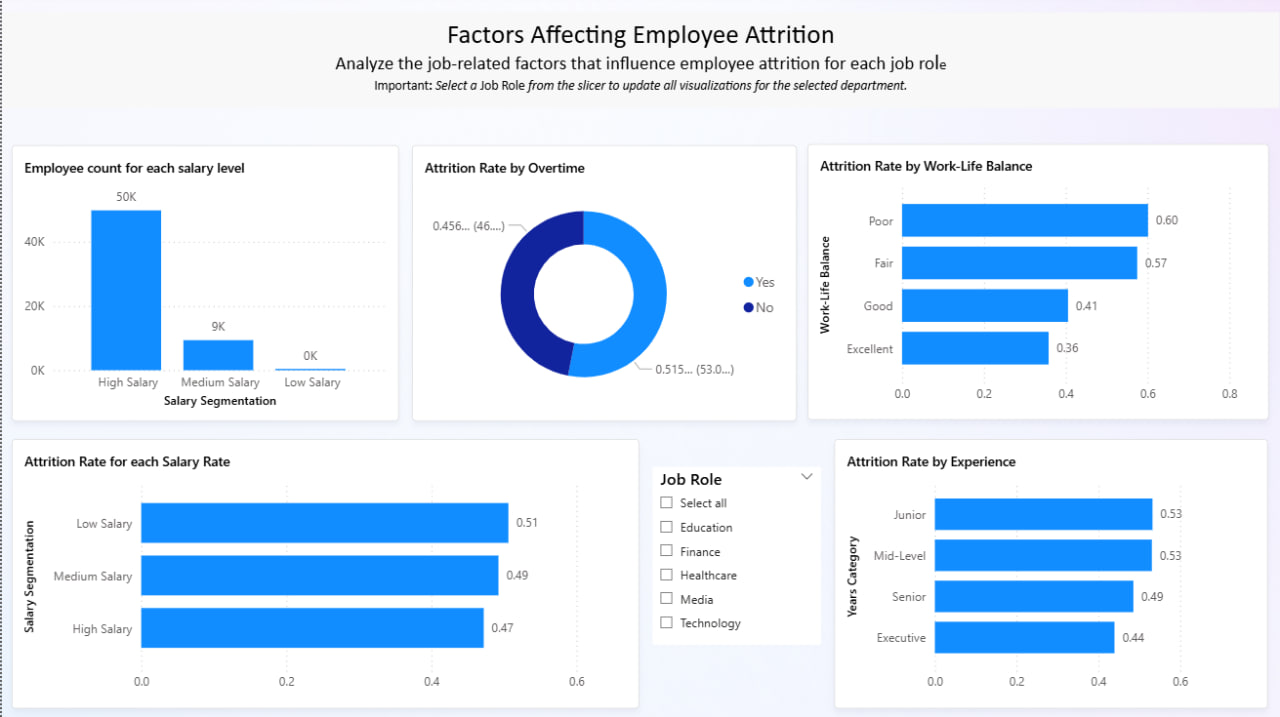

The page's visual inventory and layout, read from the dashboard file:
{"tool":"powerbi","page":{"name":"Attrition Factors","canvas":[1280,720],"ordinal":2},"visuals":[{"type":"slicer","fields":{"Values":["hr_analytics employee_attrition.Job Role"]},"box":[651.6,467.8,169,178.5],"z":0},{"type":"clusteredBarChart","title":"Attrition Rate for each Salary Rate","fields":{"Category":["hr_analytics employee_attrition.Salary Segmentation"],"Y":["hr_analytics employee_attrition.Attrition Rate"]},"box":[9.8,440.4,628.9,270.1],"z":1000},{"type":"clusteredColumnChart","title":"Employee count for each salary level","fields":{"Category":["hr_analytics employee_attrition.Salary Segmentation"],"Y":["hr_analytics employee_attrition.Employee count"]},"box":[9.8,144.9,388.3,277.2],"z":2000},{"type":"donutChart","title":"Attrition Rate by Overtime","fields":{"Category":["hr_analytics vw_overtime_attrition.Overtime"],"Y":["hr_analytics employee_attrition.Attrition Rate"]},"box":[410.8,144.9,385.5,277.2],"z":3000},{"type":"barChart","fields":{"Category":["hr_analytics vw_worklifebalance_attrition.Work-Life Balance"],"Y":["hr_analytics employee_attrition.Attrition Rate"]},"box":[807.1,144.7,462.4,277.1],"z":4000},{"type":"barChart","title":"Attrition Rate by Experience","fields":{"Category":["hr_analytics employee_attrition.Years Category"],"Y":["hr_analytics employee_attrition.Attrition Rate"]},"box":[834.3,440.4,434.7,270.1],"z":5000},{"type":"textbox","box":[0,12.2,1280.3,96],"z":6000}]}

Visuals, with their boxes in screenshot pixels (x1, y1, x2, y2), scaled from the page's 1280x720 canvas onto the 1280x717 screenshot:
slicer - hr_analytics employee_attrition.Job Role: left=652, top=466, right=821, bottom=644
"Attrition Rate for each Salary Rate" clusteredBarChart: left=10, top=439, right=639, bottom=708
"Employee count for each salary level" clusteredColumnChart: left=10, top=144, right=398, bottom=420
"Attrition Rate by Overtime" donutChart: left=411, top=144, right=796, bottom=420
barChart - hr_analytics vw_worklifebalance_attrition.Work-Life Balance x hr_analytics employee_attrition.Attrition Rate: left=807, top=144, right=1270, bottom=420
"Attrition Rate by Experience" barChart: left=834, top=439, right=1269, bottom=708
textbox: left=0, top=12, right=1279, bottom=108
